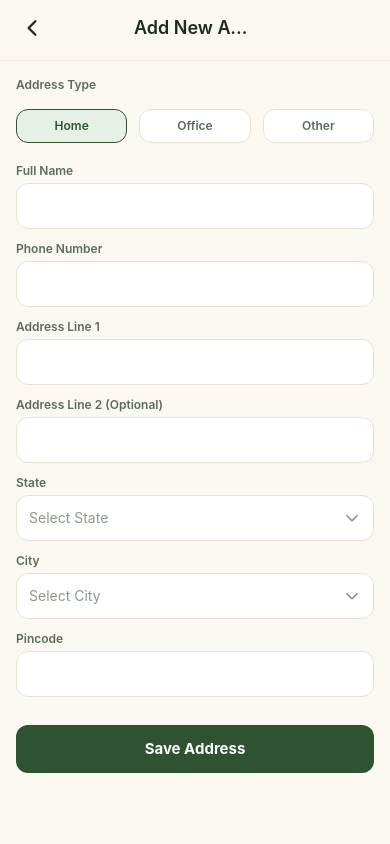
Test case: AddEditAddressScreen › State scopes the city list › clears a city that does not belong to the newly chosen state
The image size is (390, 844).
Click the button labelled "Select State".
click(69, 518)  # box [16, 495, 374, 541]
(page scrolled)
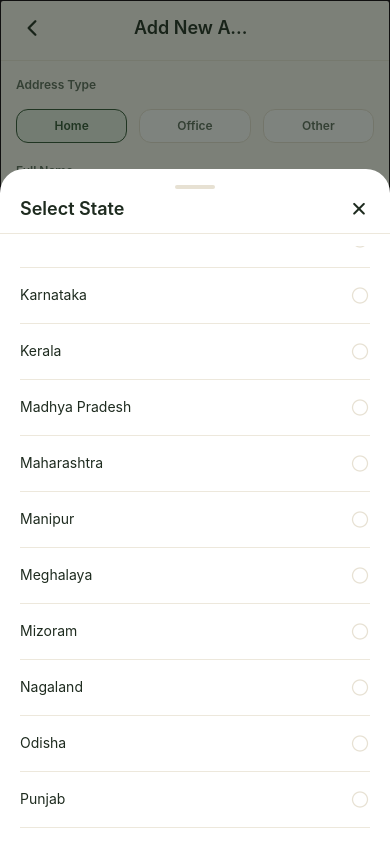
Click the text "Punjab".
click(43, 799)  # box [20, 789, 65, 809]
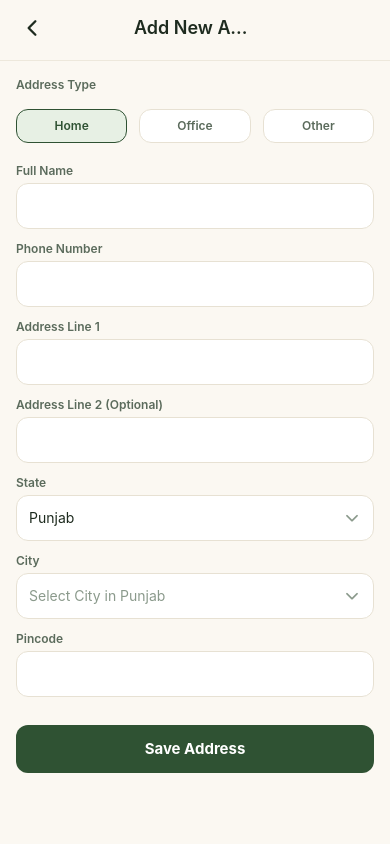
Click the button labelled "Select City in Punjab".
click(97, 596)  # box [16, 573, 374, 619]
(page scrolled)
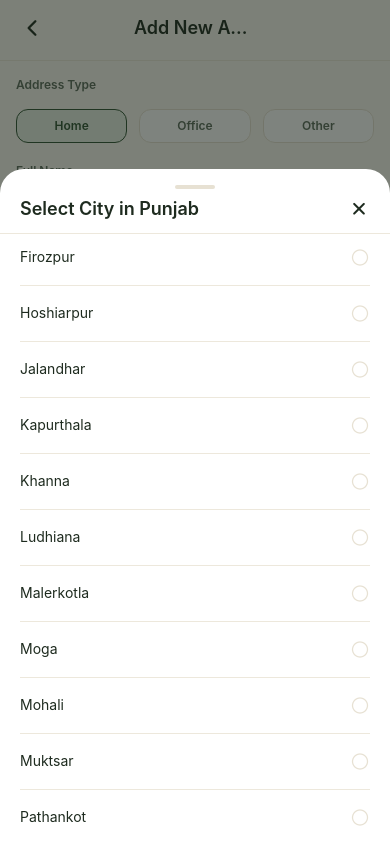
Click the text "Ludhiana".
click(50, 537)  # box [20, 527, 80, 547]
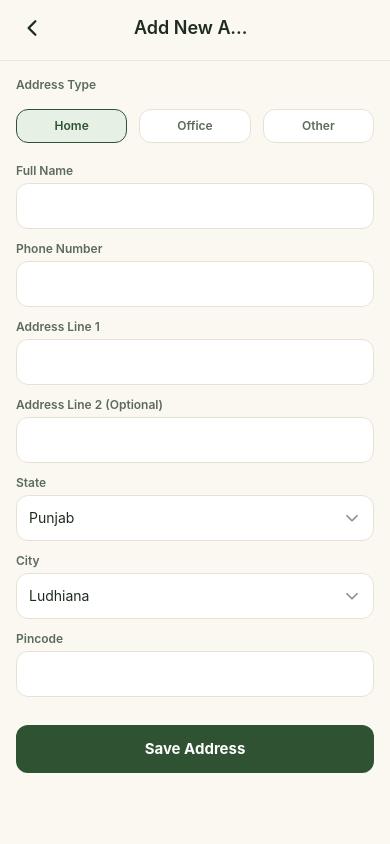
Result: the text "Ludhiana" is shown at [29, 586, 89, 606]
Click the button with aria-label "State".
click(52, 518)  # box [16, 495, 374, 541]
(page scrolled)
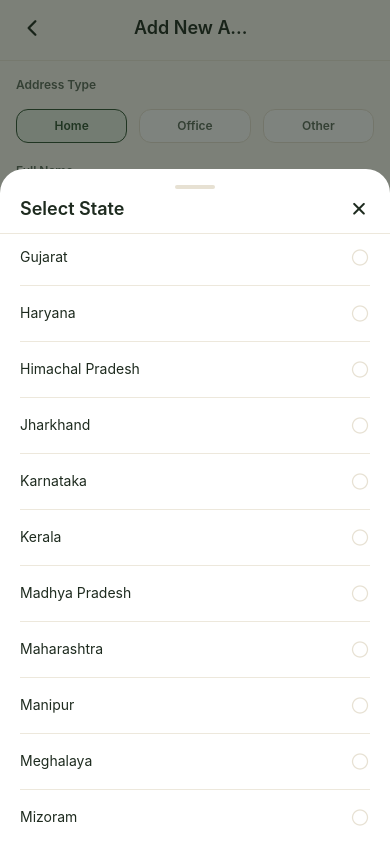
Click the text "Kerala".
click(41, 537)  # box [20, 527, 61, 547]
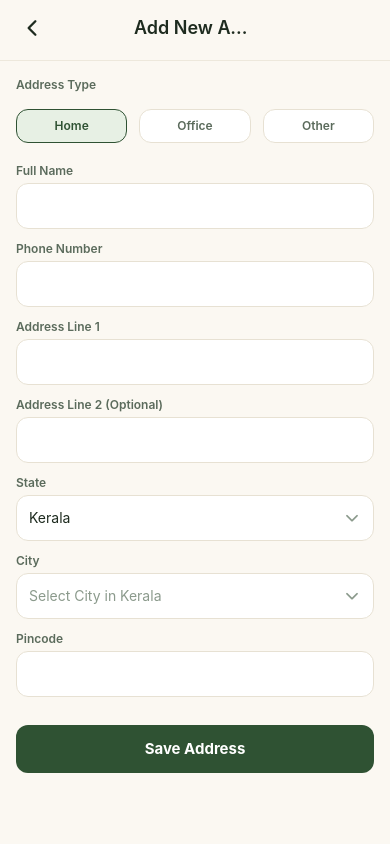
Result: the text "Select City in Kerala" is shown at [29, 586, 162, 606]
Result: the button "Ludhiana" is gone
